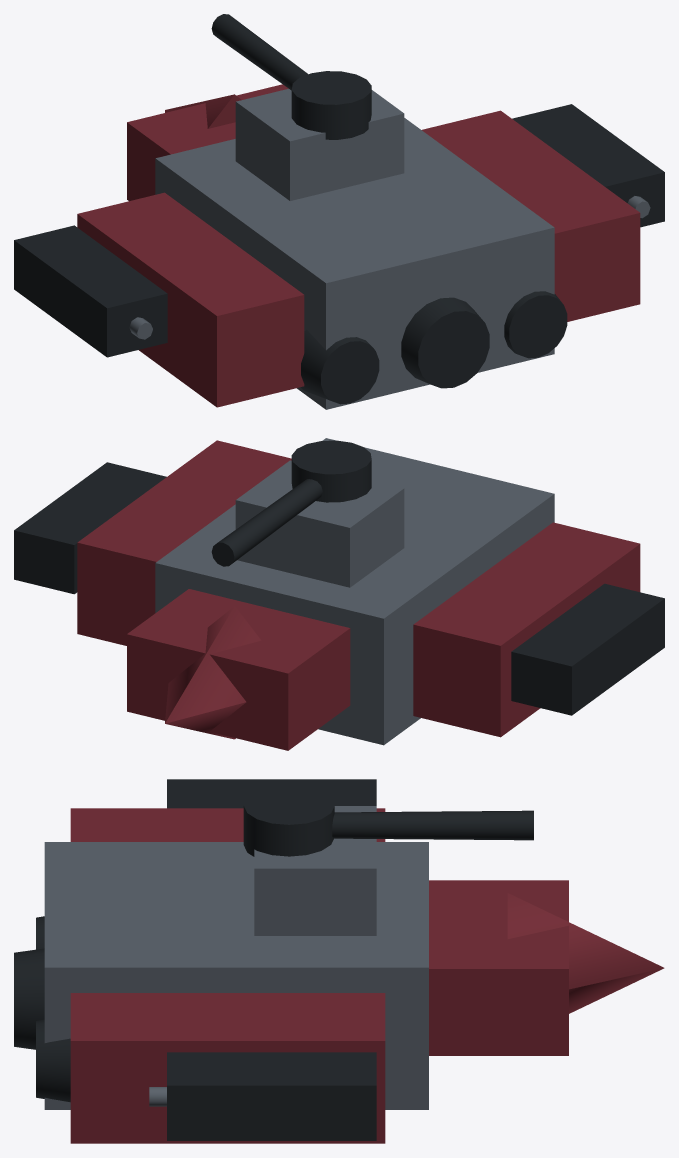
Rendered from bastion-7.glb.
3 renders of one model, top to bottom at view 1: azimuth 30°, elevation 25°; view 2: azimuth 150°, elevation 25°; view 3: azimuth 270°, elevation 25°, orthographic. The views are drawn at different scales.
Parts seen in each view (by area): view 1: armored center hull, side armor slab -1, side armor slab 1, missile rack -1, upper command block, missile rack 1, main gunship nozzle, forward armor wedge, top turret base, armored side nozzle -1, armored side nozzle 1, turret cannon (+1 smaller); view 2: armored center hull, side armor slab -1, forward armor wedge, side armor slab 1, missile rack -1, upper command block, missile rack 1, stub ram nose, top turret base, turret cannon; view 3: armored center hull, side armor slab 1, forward armor wedge, missile rack 1, upper command block, stub ram nose, side armor slab -1, turret cannon, top turret base, missile rack -1, main gunship nozzle, armored side nozzle 1.
Boxes of the visible parts, left/top/right/bottom form: armored center hull: left=155, top=118, right=554, bottom=409; side armor slab -1: left=77, top=192, right=304, bottom=407; side armor slab 1: left=422, top=110, right=640, bottom=321; missile rack -1: left=14, top=225, right=167, bottom=357; upper command block: left=235, top=88, right=404, bottom=200; missile rack 1: left=512, top=104, right=664, bottom=227; main gunship nozzle: left=401, top=297, right=489, bottom=388; forward armor wedge: left=127, top=84, right=288, bottom=201; top turret base: left=291, top=71, right=371, bottom=139; armored side nozzle -1: left=300, top=329, right=379, bottom=404; armored side nozzle 1: left=504, top=291, right=567, bottom=358; turret cannon: left=211, top=14, right=307, bottom=90; armored center hull: left=155, top=438, right=554, bottom=745; side armor slab -1: left=413, top=522, right=640, bottom=737; forward armor wedge: left=127, top=589, right=350, bottom=750; side armor slab 1: left=77, top=440, right=291, bottom=645; missile rack -1: left=511, top=583, right=664, bottom=715; upper command block: left=235, top=460, right=404, bottom=587; missile rack 1: left=14, top=462, right=166, bottom=594; stub ram nose: left=165, top=606, right=261, bottom=739; top turret base: left=291, top=440, right=371, bottom=502; turret cannon: left=211, top=479, right=322, bottom=566; armored center hull: left=44, top=842, right=428, bottom=1109; side armor slab 1: left=70, top=993, right=385, bottom=1143; forward armor wedge: left=429, top=880, right=568, bottom=1055; missile rack 1: left=167, top=1052, right=376, bottom=1140; upper command block: left=254, top=806, right=376, bottom=935; stub ram nose: left=507, top=893, right=664, bottom=1013; side armor slab -1: left=70, top=808, right=385, bottom=841; turret cannon: left=332, top=810, right=533, bottom=840; top turret base: left=243, top=786, right=334, bottom=856; missile rack -1: left=167, top=779, right=376, bottom=808; main gunship nozzle: left=14, top=948, right=44, bottom=1049; armored side nozzle 1: left=36, top=1019, right=70, bottom=1102.
Bounding box in the file's own units: 83 × 30.9 × 74.5.
